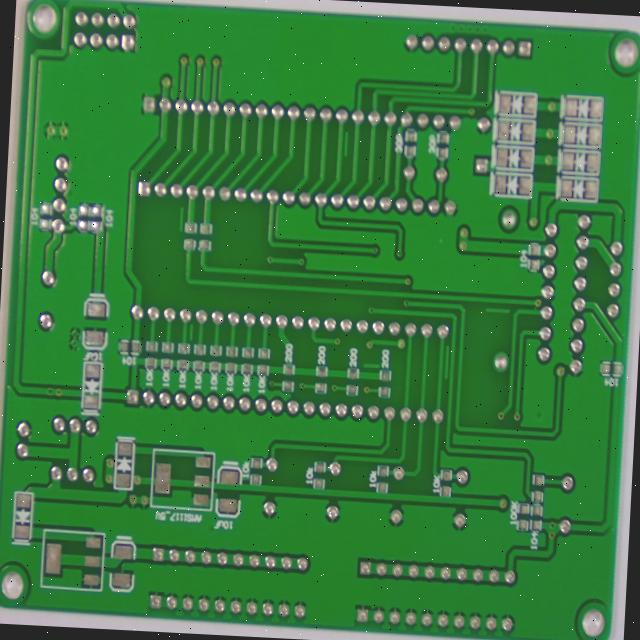spurious_copper: (488, 413, 507, 464), (538, 365, 572, 389), (376, 156, 392, 194), (193, 247, 207, 285), (400, 434, 425, 454)
